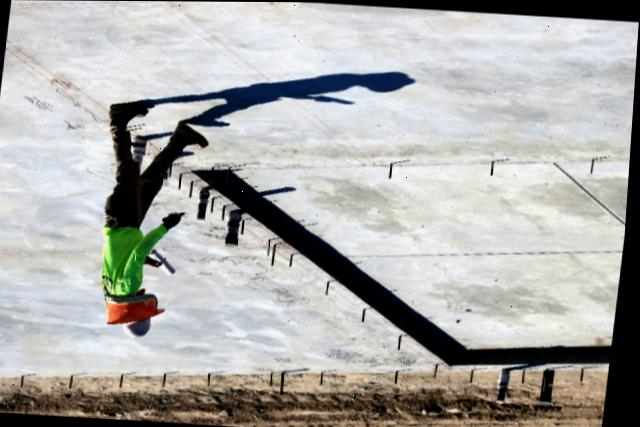helmet: (116, 302, 174, 342)
